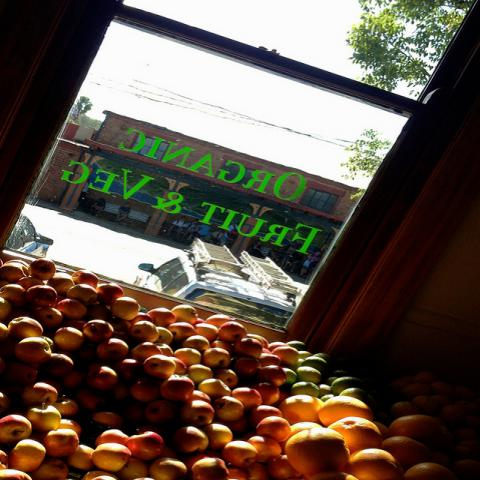car: (4, 213, 54, 258)
truck: (133, 240, 302, 326)
